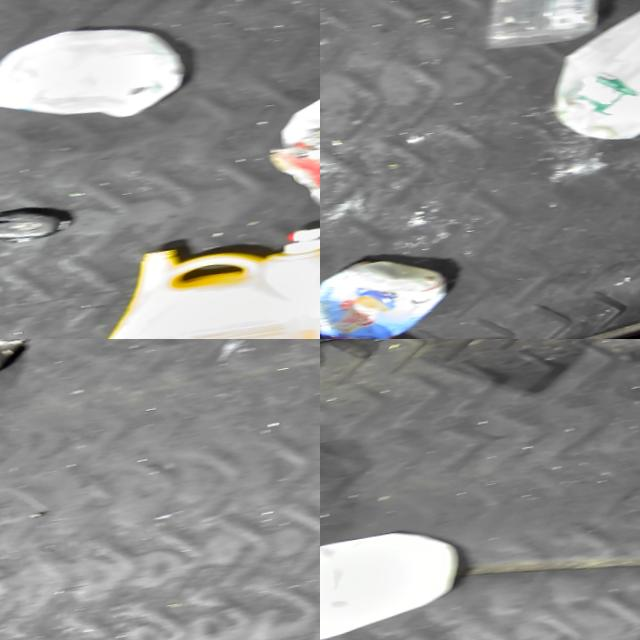can: (0, 339, 34, 389)
milk_jug: (0, 7, 206, 145), (320, 518, 478, 640), (539, 3, 640, 158), (269, 61, 320, 219)
non_white_jug: (92, 211, 320, 339)
